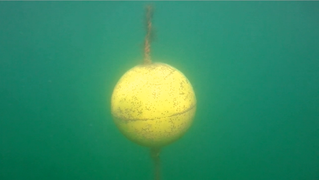buoy: (109, 62, 197, 148)
